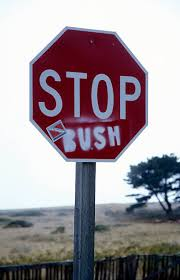Stop: (29, 24, 163, 140)
